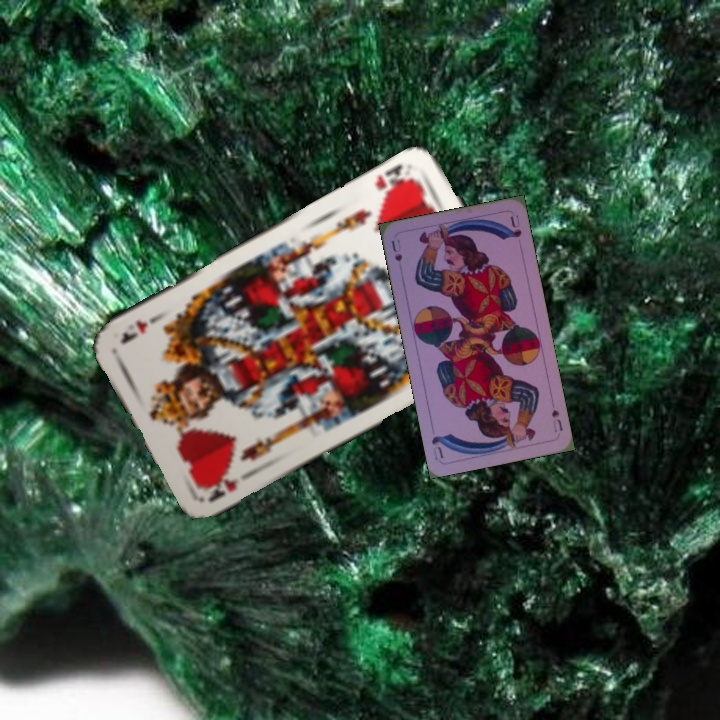HK: (200, 465, 258, 505), (370, 160, 418, 201)
SU: (387, 235, 405, 264), (548, 406, 565, 435)
